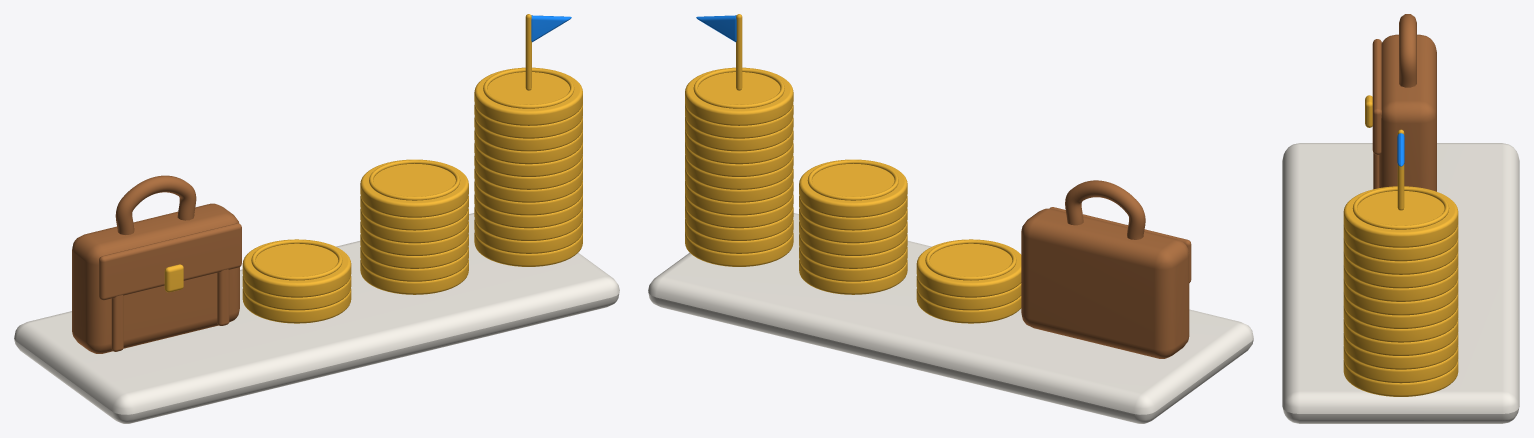
Rendered from hero-grow.glb.
3 renders of one model, left to right at view 1: azimuth 30°, elevation 25°; view 2: azimuth 150°, elevation 25°; view 3: azimuth 270°, elevation 25°, orthographic. The views are drawn at different scales.
Parts seen in each view (by area): view 1: Small cream growth platform, Career briefcase / Rounded leather briefcase, Career briefcase / Briefcase front flap, Coin stack 1 / coin 3, Coin stack 2 / coin 7, Coin stack 3 / coin 12, Career briefcase / Leather carry handle, Coin stack 1 / coin 1, Coin stack 2 / coin 1, Coin stack 3 / coin 1, Coin stack 1 / coin 2, Coin stack 3 / coin 11 (+20 smaller); view 2: Small cream growth platform, Career briefcase / Rounded leather briefcase, Coin stack 2 / coin 7, Coin stack 1 / coin 3, Coin stack 3 / coin 12, Career briefcase / Leather carry handle, Coin stack 2 / coin 1, Coin stack 3 / coin 1, Coin stack 3 / coin 11, Coin stack 3 / coin 5, Coin stack 3 / coin 6, Coin stack 2 / coin 6 (+17 smaller); view 3: Small cream growth platform, Career briefcase / Rounded leather briefcase, Coin stack 3 / coin 12, Coin stack 3 / coin 1, Coin stack 3 / coin 9, Coin stack 3 / coin 11, Coin stack 3 / coin 5, Coin stack 3 / coin 3, Coin stack 3 / coin 6, Coin stack 3 / coin 7, Coin stack 3 / coin 2, Coin stack 3 / coin 4 (+8 smaller).
Boxes of the visible parts, x1,y1,x2,y2 form: Small cream growth platform: [14, 213, 619, 423]; Career briefcase / Rounded leather briefcase: [72, 203, 239, 353]; Career briefcase / Briefcase front flap: [99, 223, 241, 300]; Coin stack 1 / coin 3: [242, 239, 351, 297]; Coin stack 2 / coin 7: [360, 159, 468, 217]; Coin stack 3 / coin 12: [474, 67, 582, 125]; Career briefcase / Leather carry handle: [115, 175, 196, 234]; Coin stack 1 / coin 1: [242, 289, 351, 323]; Coin stack 2 / coin 1: [360, 260, 468, 294]; Coin stack 3 / coin 1: [474, 231, 582, 266]; Coin stack 1 / coin 2: [242, 276, 351, 310]; Coin stack 3 / coin 11: [474, 103, 582, 138]; Small cream growth platform: [648, 213, 1253, 423]; Career briefcase / Rounded leather briefcase: [1021, 208, 1189, 358]; Coin stack 2 / coin 7: [799, 159, 907, 217]; Coin stack 1 / coin 3: [916, 239, 1021, 297]; Coin stack 3 / coin 12: [685, 67, 793, 125]; Career briefcase / Leather carry handle: [1065, 180, 1145, 239]; Coin stack 2 / coin 1: [799, 260, 907, 294]; Coin stack 3 / coin 1: [685, 231, 793, 266]; Coin stack 3 / coin 11: [685, 103, 793, 138]; Coin stack 3 / coin 5: [685, 180, 793, 215]; Coin stack 3 / coin 6: [685, 167, 793, 202]; Coin stack 2 / coin 6: [799, 196, 907, 230]; Small cream growth platform: [1282, 143, 1519, 423]; Career briefcase / Rounded leather briefcase: [1379, 34, 1436, 191]; Coin stack 3 / coin 12: [1343, 186, 1458, 247]; Coin stack 3 / coin 1: [1343, 360, 1458, 396]; Coin stack 3 / coin 9: [1343, 251, 1458, 288]; Coin stack 3 / coin 11: [1343, 224, 1458, 261]; Coin stack 3 / coin 5: [1343, 305, 1458, 342]; Coin stack 3 / coin 3: [1343, 332, 1458, 369]; Coin stack 3 / coin 6: [1343, 292, 1458, 328]; Coin stack 3 / coin 7: [1343, 278, 1458, 315]; Coin stack 3 / coin 2: [1343, 346, 1458, 383]; Coin stack 3 / coin 4: [1343, 319, 1458, 355].
Bounding box in the file's own units: 3.79 × 1.87 × 1.44.
